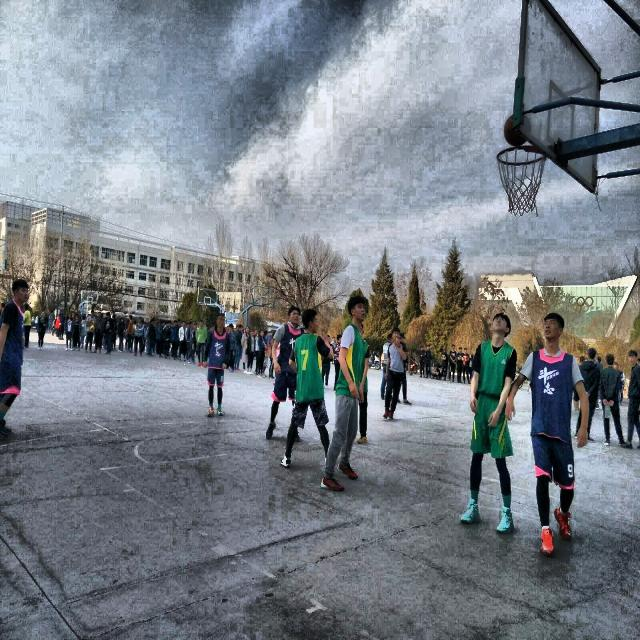rim: (497, 145, 544, 214)
